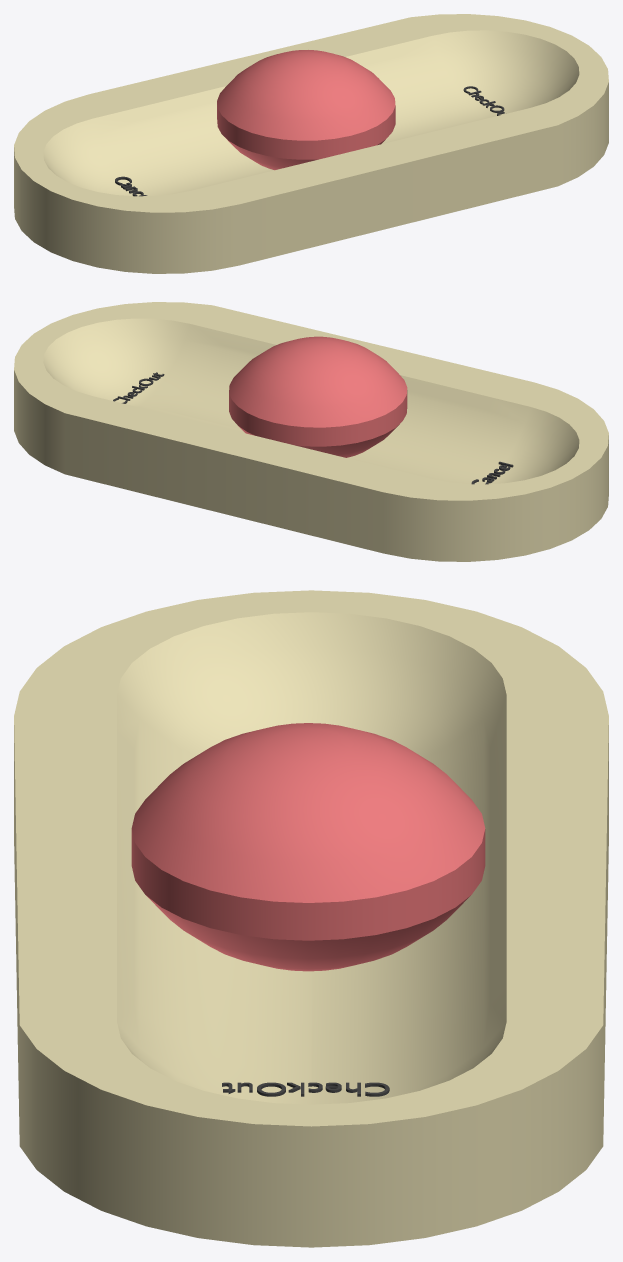
File: button03.fbx
3 renders of one model, top to bottom at view 1: azimuth 30°, elevation 25°; view 2: azimuth 150°, elevation 25°; view 3: azimuth 270°, elevation 25°, orthographic. The views are drawn at different scales.
Parts seen in each view (by area): view 1: Cylinder, Sphere; view 2: Cylinder, Sphere, Text.003; view 3: Cylinder, Sphere, Text.003.
Part boxes in pixels (left/top/right/bottom): Cylinder: left=14, top=14, right=608, bottom=273; Sphere: left=217, top=50, right=395, bottom=170; Cylinder: left=14, top=302, right=608, bottom=561; Sphere: left=229, top=336, right=407, bottom=457; Text.003: left=113, top=372, right=164, bottom=403; Cylinder: left=14, top=590, right=608, bottom=1247; Sphere: left=131, top=723, right=485, bottom=971; Text.003: left=222, top=1082, right=389, bottom=1096.
Size of the model in its own units: 119 by 23.98 by 55.93.
